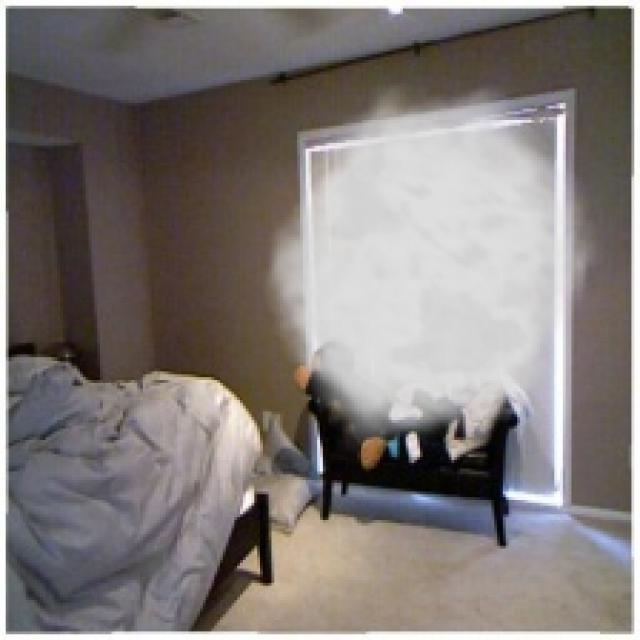smoke: (257, 83, 606, 457)
